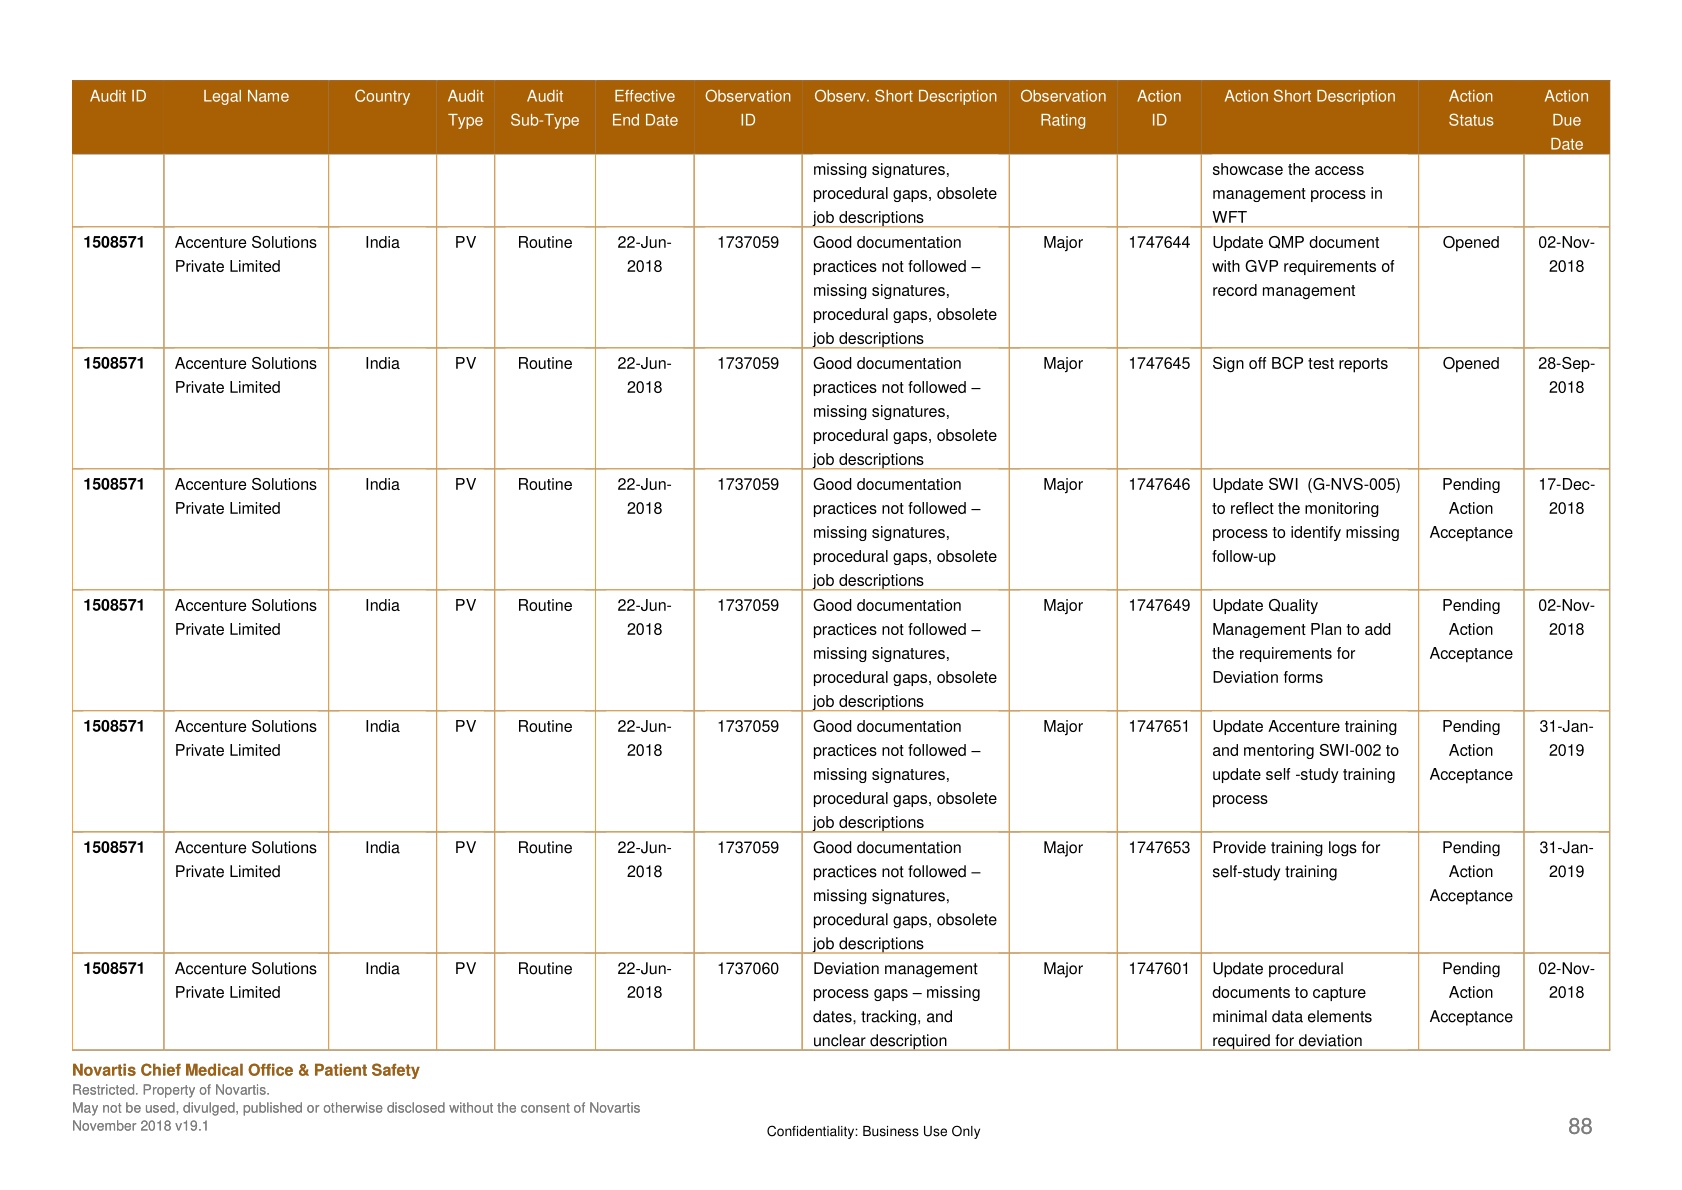full_lined: (77, 82, 1609, 1050)
